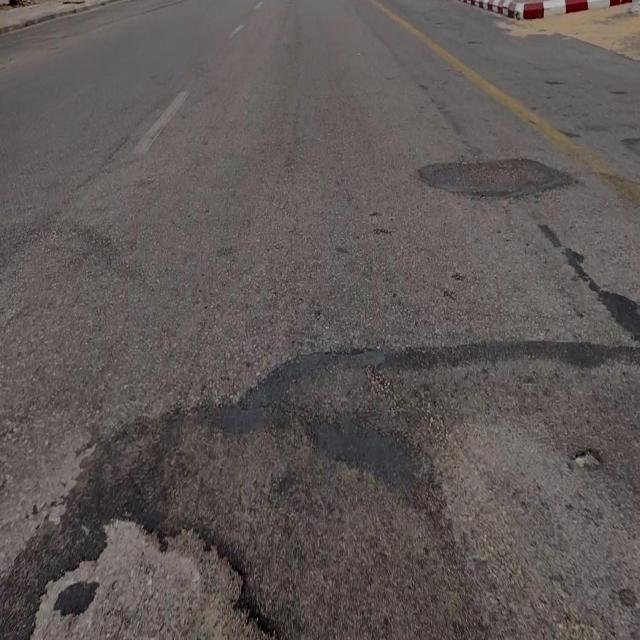Potholes: (17, 511, 281, 640)
